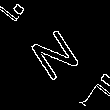N_SE: (25, 23, 85, 87)
